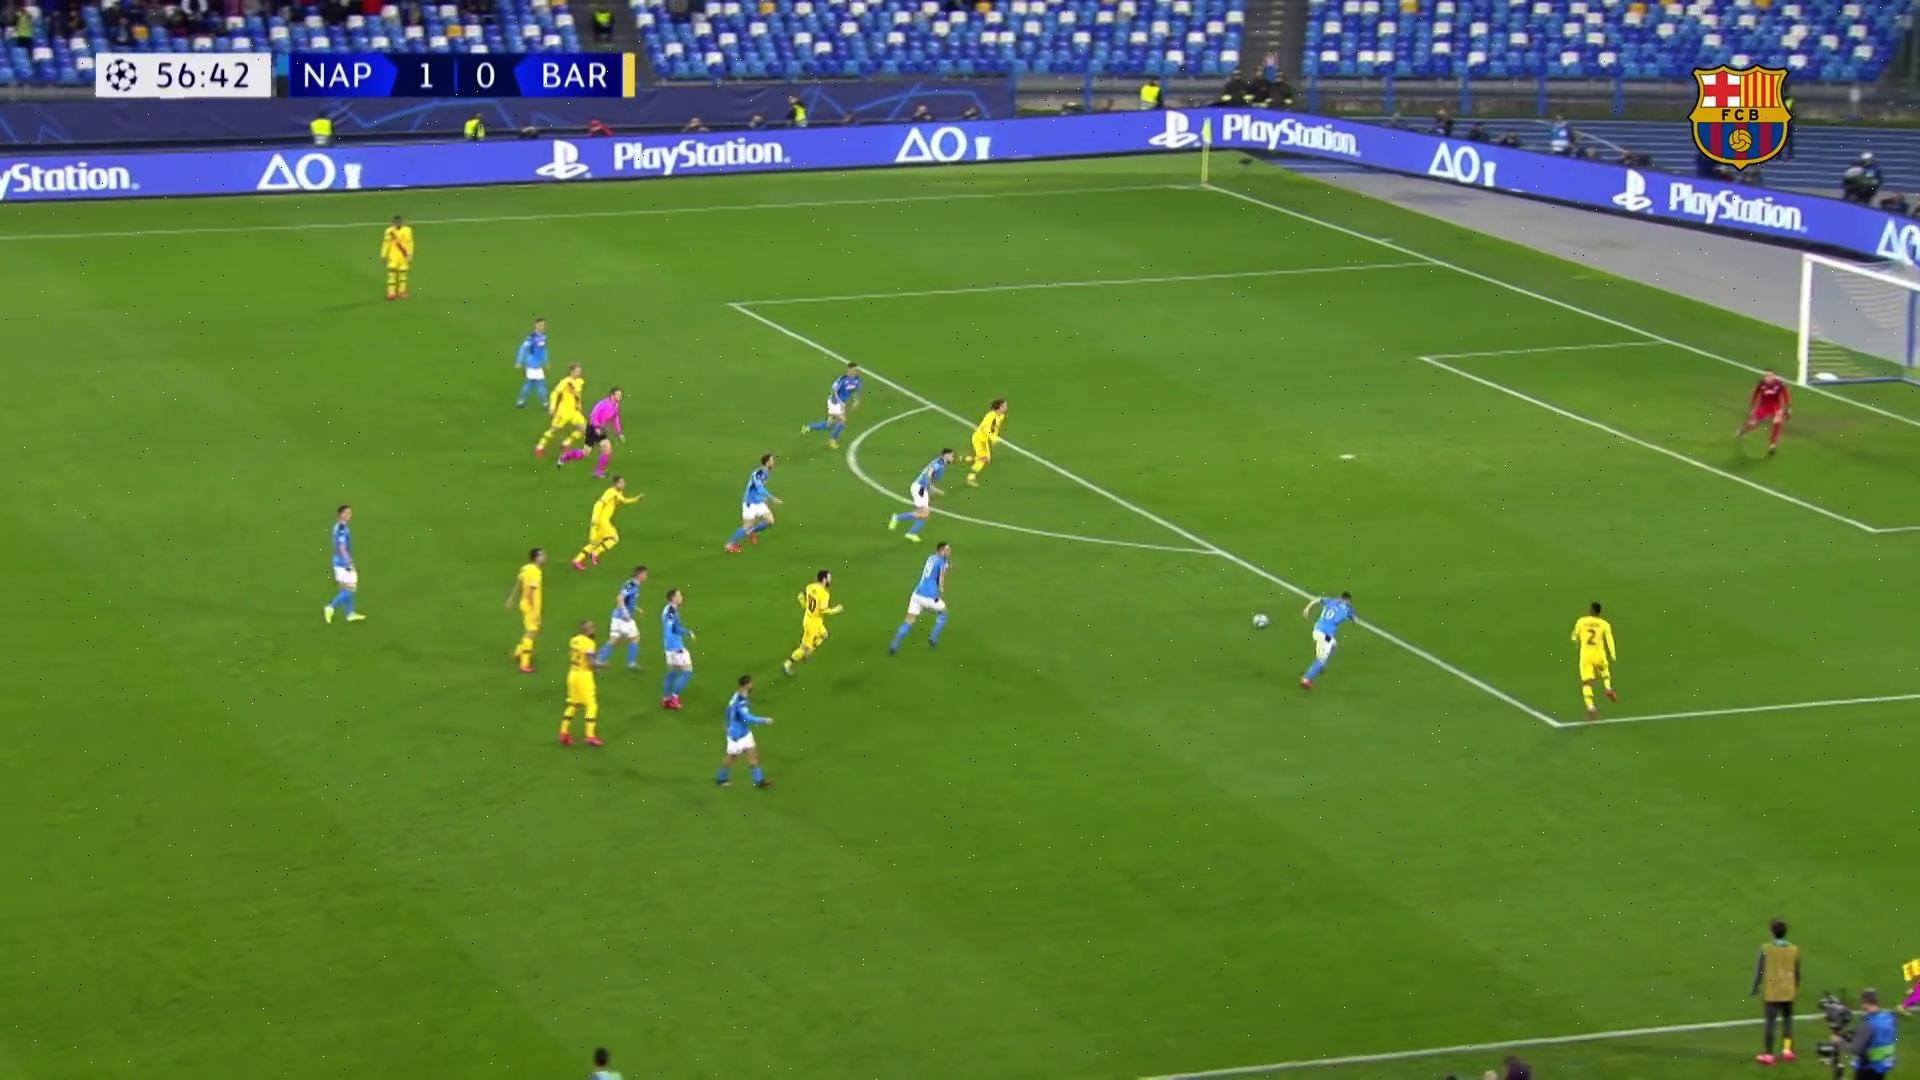ball: (1250, 612, 1273, 633)
